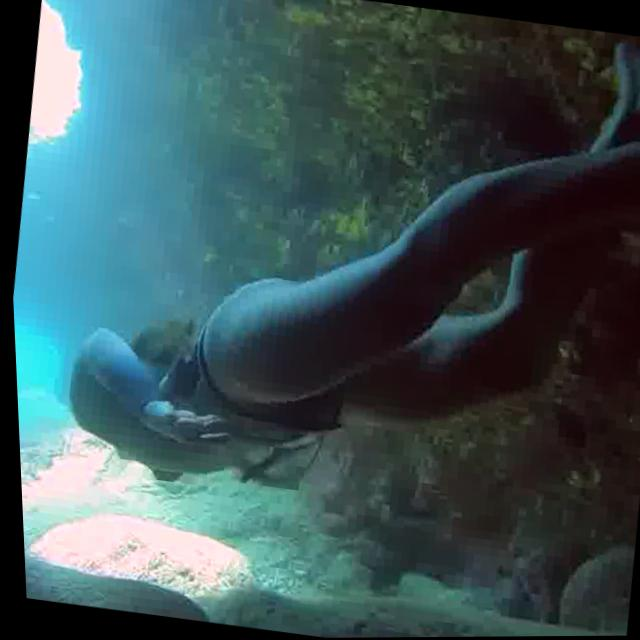human: (39, 0, 640, 555)
